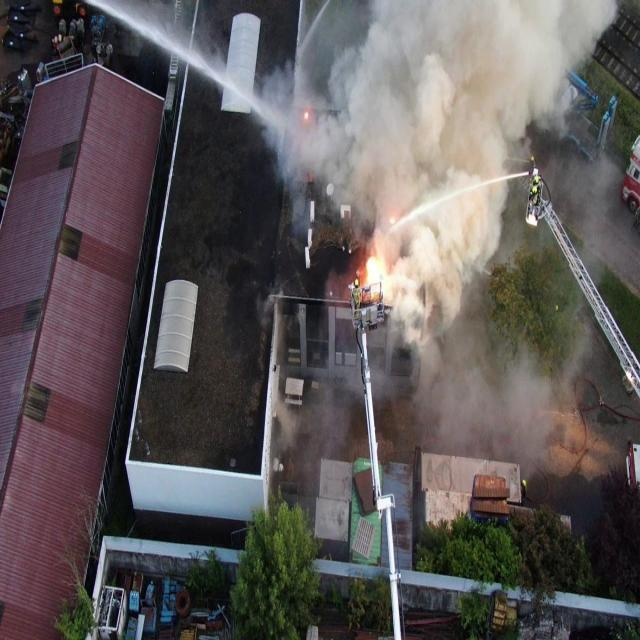Fire: (363, 255, 388, 299), (304, 112, 308, 120), (390, 218, 394, 224)
Smoke: (258, 0, 619, 500)
